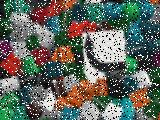Right: (82, 30, 126, 74)
